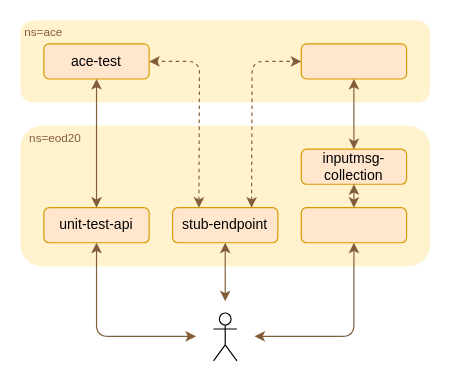
Some shapes in this 449 by 381 pixel diagram are drawn without their labels. Each missing label, with the box of its shape:
ace-accp: (300, 43, 407, 79)
inputmsg-api: (300, 207, 407, 243)
